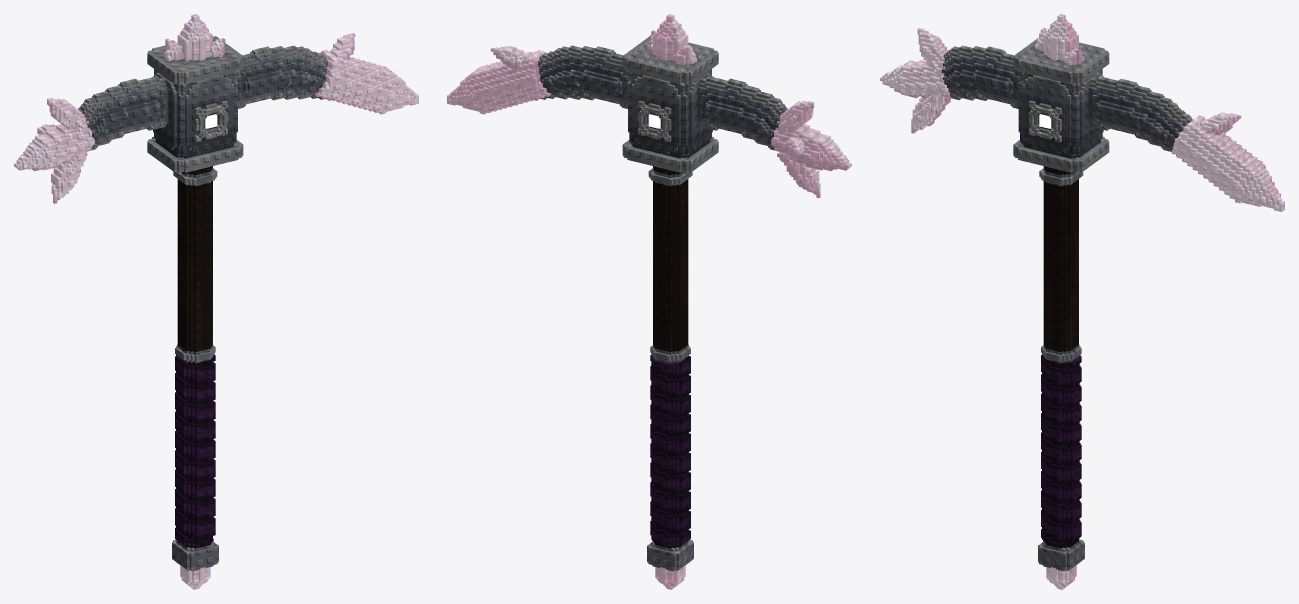
The model's file is PiocheQuartz.glb.
3 views of the same model, side by side, from view 1: azimuth 30°, elevation 25°; view 2: azimuth 150°, elevation 25°; view 3: azimuth 330°, elevation 25° (orthographic).
Parts seen in each view (by area): view 1: PiocheQuartz_Tete_Acier, PiocheQuartz_Tete_Cristal, PiocheQuartz_Manche_Cuir, PiocheQuartz_Manche_Bois, PiocheQuartz_Manche_Acier; view 2: PiocheQuartz_Tete_Acier, PiocheQuartz_Tete_Cristal, PiocheQuartz_Manche_Bois, PiocheQuartz_Manche_Cuir, PiocheQuartz_Manche_Acier; view 3: PiocheQuartz_Tete_Acier, PiocheQuartz_Tete_Cristal, PiocheQuartz_Manche_Bois, PiocheQuartz_Manche_Cuir, PiocheQuartz_Manche_Acier.
Part boxes in pixels (x1=…): PiocheQuartz_Tete_Acier: x1=78, y1=36, x2=336, y2=172; PiocheQuartz_Tete_Cristal: x1=14, y1=14, x2=418, y2=203; PiocheQuartz_Manche_Cuir: x1=175, y1=354, x2=215, y2=546; PiocheQuartz_Manche_Bois: x1=177, y1=166, x2=212, y2=548; PiocheQuartz_Manche_Acier: x1=172, y1=168, x2=218, y2=571; PiocheQuartz_Tete_Acier: x1=529, y1=36, x2=787, y2=172; PiocheQuartz_Tete_Cristal: x1=447, y1=14, x2=851, y2=198; PiocheQuartz_Manche_Bois: x1=653, y1=166, x2=688, y2=548; PiocheQuartz_Manche_Cuir: x1=650, y1=354, x2=690, y2=546; PiocheQuartz_Manche_Acier: x1=647, y1=168, x2=693, y2=571; PiocheQuartz_Tete_Acier: x1=941, y1=39, x2=1193, y2=172; PiocheQuartz_Tete_Cristal: x1=880, y1=14, x2=1284, y2=211; PiocheQuartz_Manche_Bois: x1=1043, y1=166, x2=1078, y2=548; PiocheQuartz_Manche_Cuir: x1=1041, y1=354, x2=1081, y2=546; PiocheQuartz_Manche_Acier: x1=1038, y1=168, x2=1084, y2=571.
Bounding box in the file's own units: 6.08 × 8.28 × 0.96.
5 materials, 4 textured.
